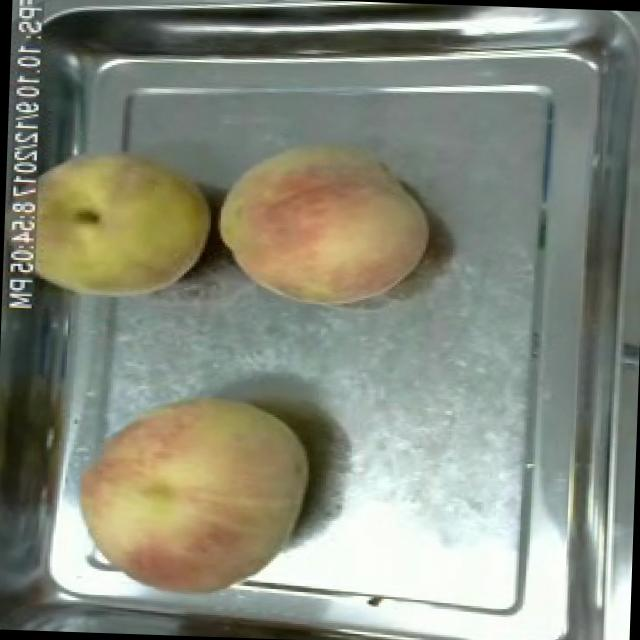Fruit: (62, 381, 320, 614), (206, 128, 438, 318), (7, 139, 217, 312)
